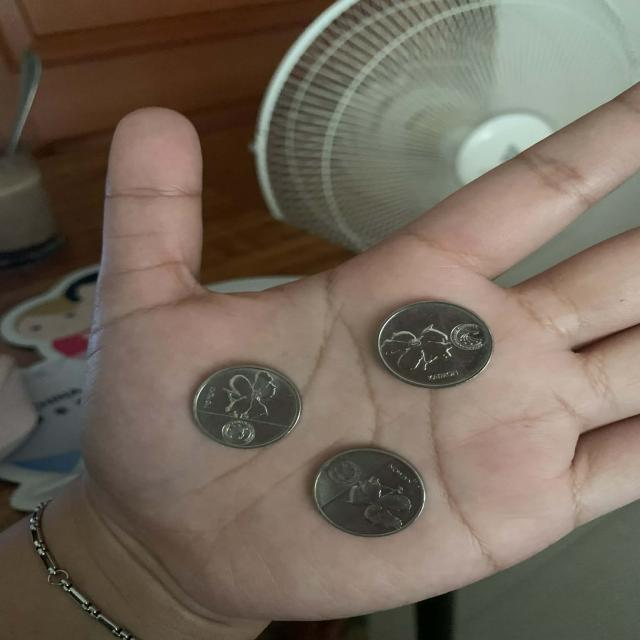25 cents: (367, 290, 500, 394), (184, 355, 308, 456), (312, 438, 428, 539)
